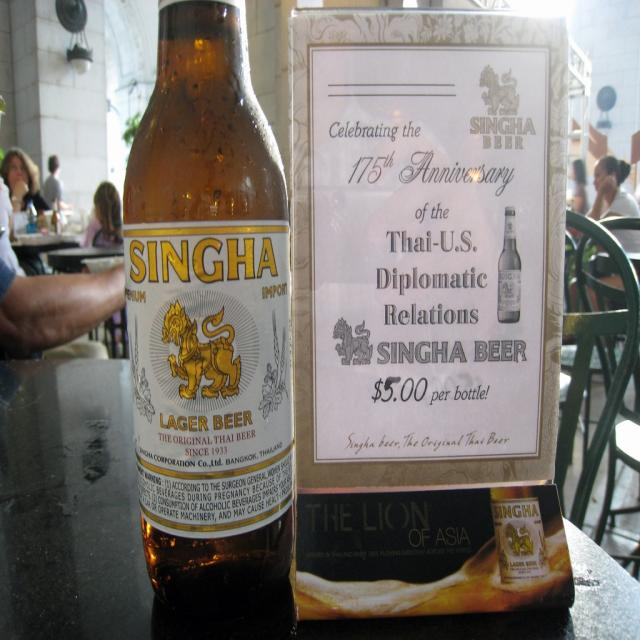singha: (122, 225, 297, 486), (464, 63, 539, 157), (490, 498, 552, 582), (327, 315, 379, 379), (498, 270, 523, 309)
